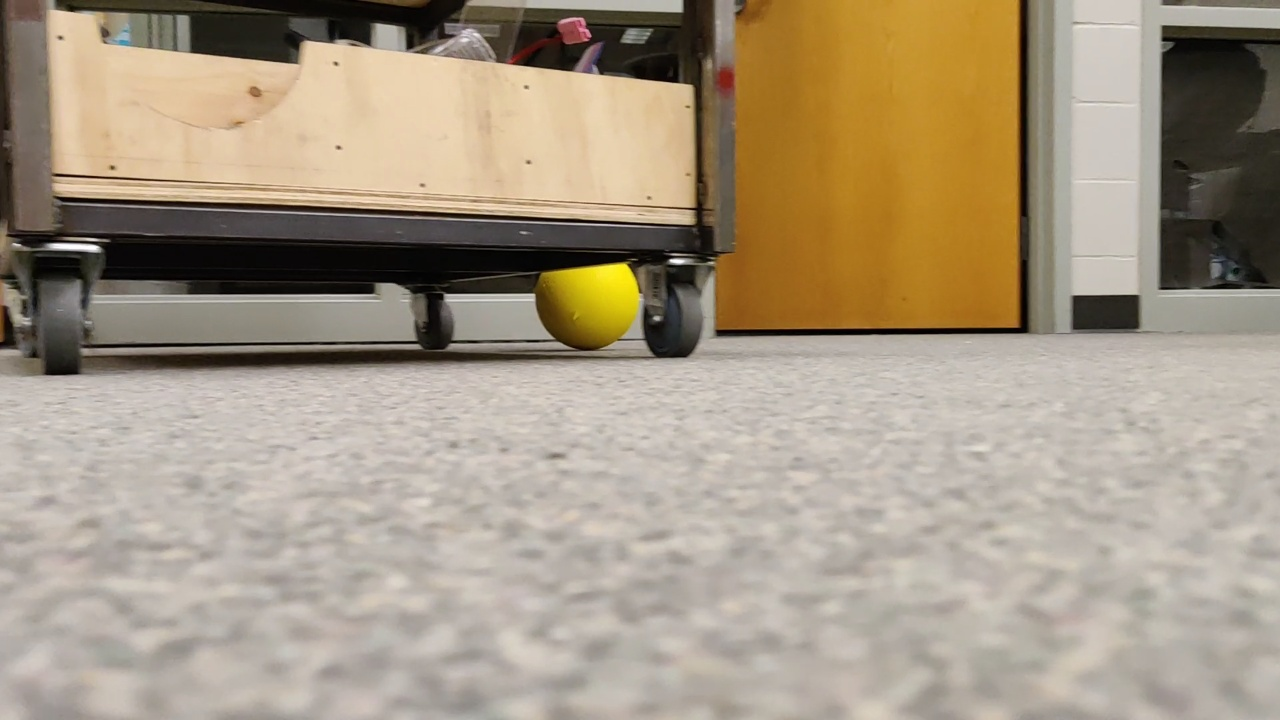Ball: (520, 230, 634, 358)
